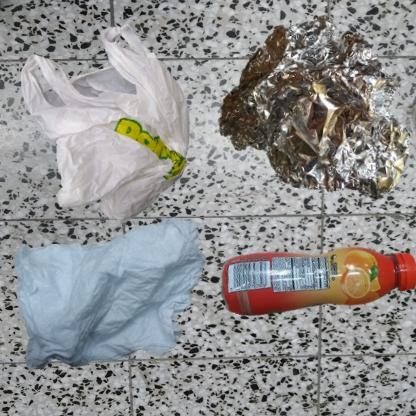aluminio: (213, 10, 416, 209)
bolsa: (10, 10, 235, 262)
botella: (213, 213, 416, 368)
papel: (10, 213, 219, 376)
